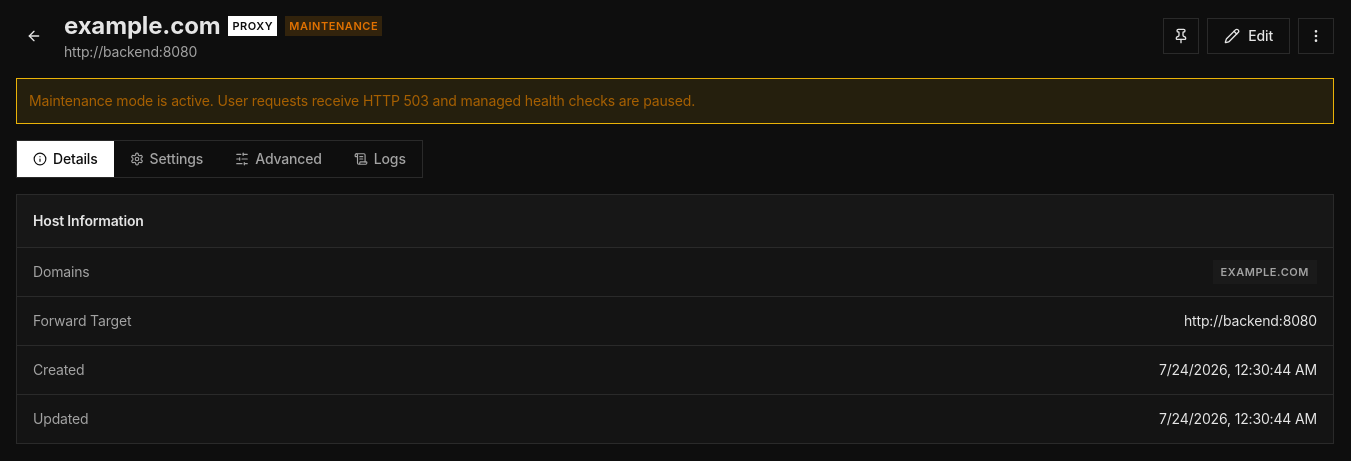
Scenario: ProxyHostDetail › shows maintenance as the primary state with a disable action in the overflow menu
Expected: the text "Maintenance" is shown, [289,20,378,32]
Expected: the text "User requests receive HTTP 503" is shown, [29,92,695,109]
Click the button named "More proxy host actions" at (1316, 36), box [1298,18,1334,54]
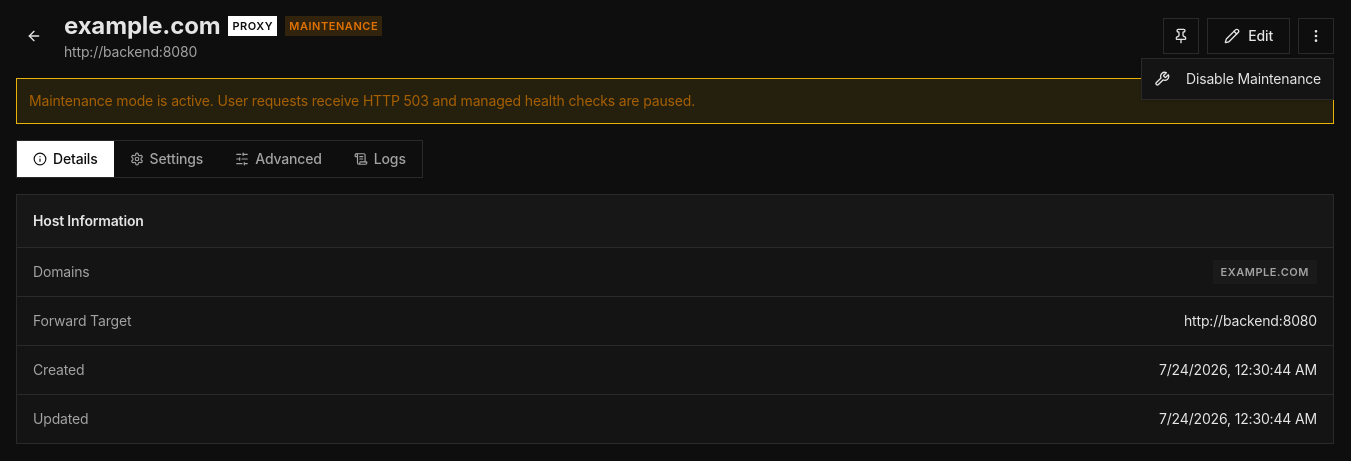
Expected: the menu item "Disable Maintenance" is shown, [1154,70,1321,87]
